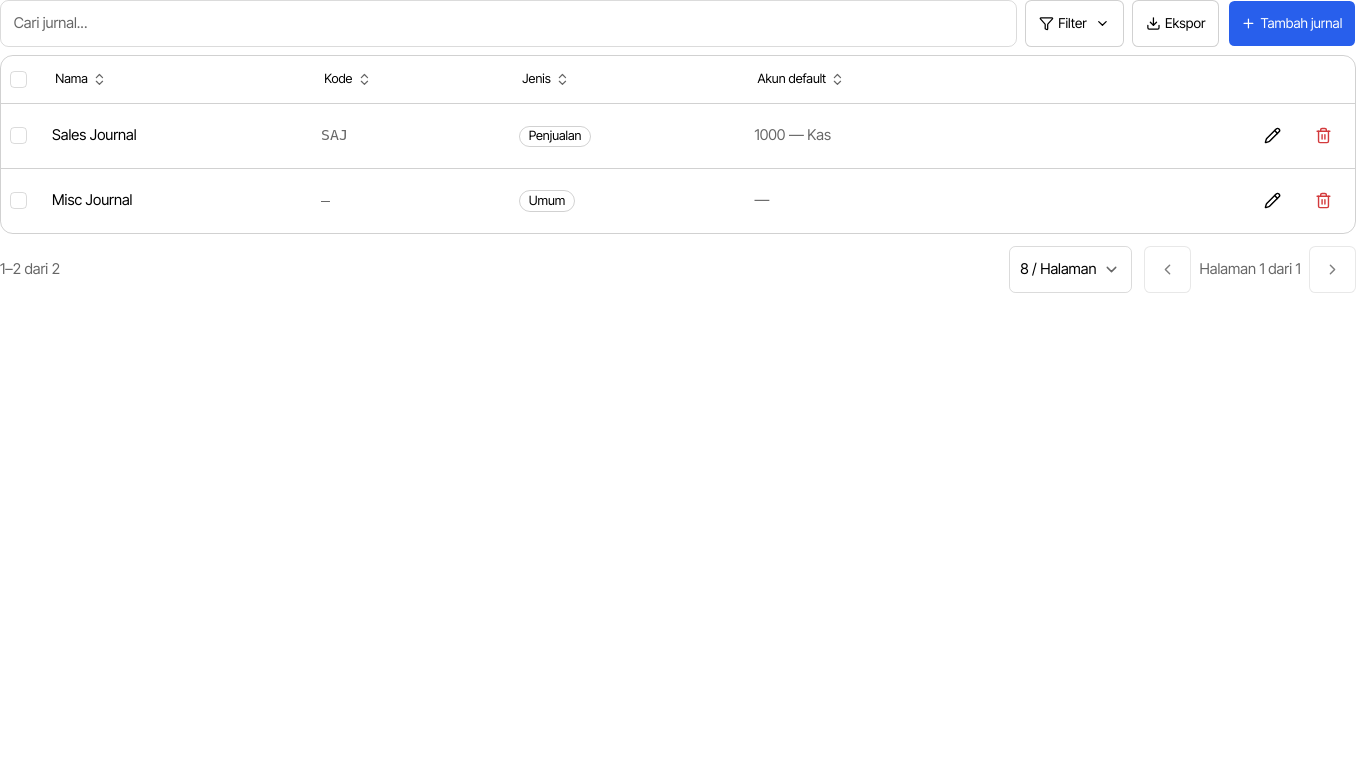
JournalsSection remainder › opens the create dialog with an empty name and disabled save
Check: the text "Sales Journal" is shown, box [52,126,137,144]
Click the button "Tambah jurnal": {"x": 1292, "y": 23} [1228,0,1356,47]
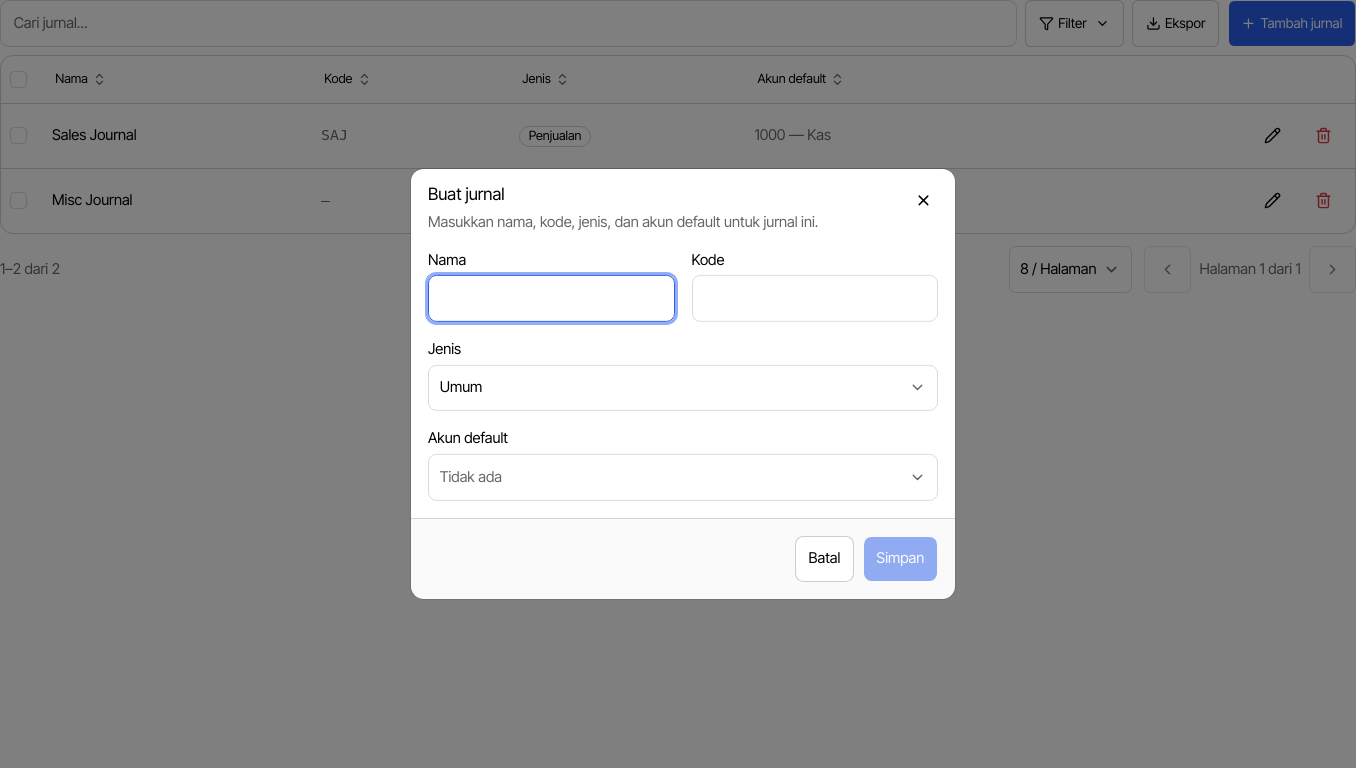
Check: the heading "Buat jurnal" is shown, box [428,184,505,204]
Check: the button "Simpan" is disabled, box [863,535,938,582]
